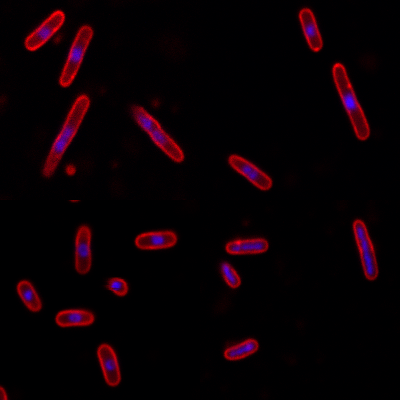CAM: (95, 343, 122, 386), (72, 224, 94, 275), (134, 229, 179, 251), (54, 308, 96, 329), (15, 280, 42, 312)
Nalidixate: (330, 61, 371, 142), (59, 24, 97, 88), (23, 10, 66, 52), (227, 152, 272, 192), (296, 7, 324, 52)
Oblique: (39, 94, 90, 178), (129, 102, 185, 164), (218, 260, 243, 290), (101, 275, 129, 296)
Rifampicin: (351, 220, 380, 281), (222, 337, 260, 362), (224, 236, 270, 255)
Vesicle: (63, 163, 77, 178)
